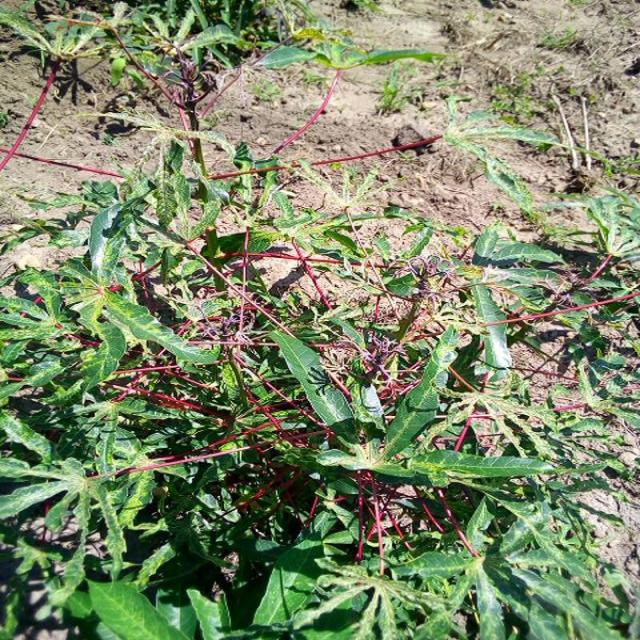cassava leaf: (268, 325, 354, 430)
